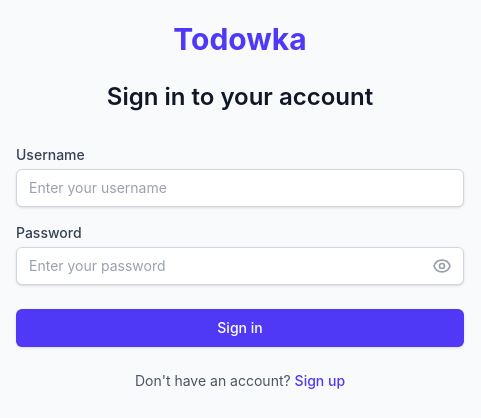
Test: Login › validation › shows validation error when username is empty
Type "password123" into the password field labelled "Password".
click(240, 266); type("password123")  # box [16,247,464,285]
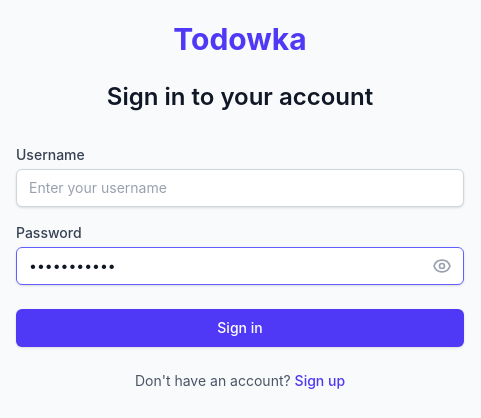
Click the button "Sign in".
click(240, 328)  # box [16,309,464,347]
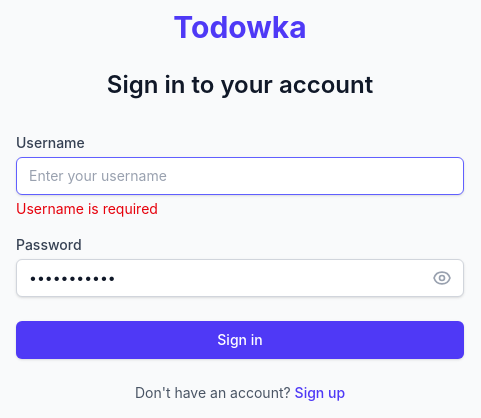
Now the text "Username is required" is shown, box [16,200,158,217]
